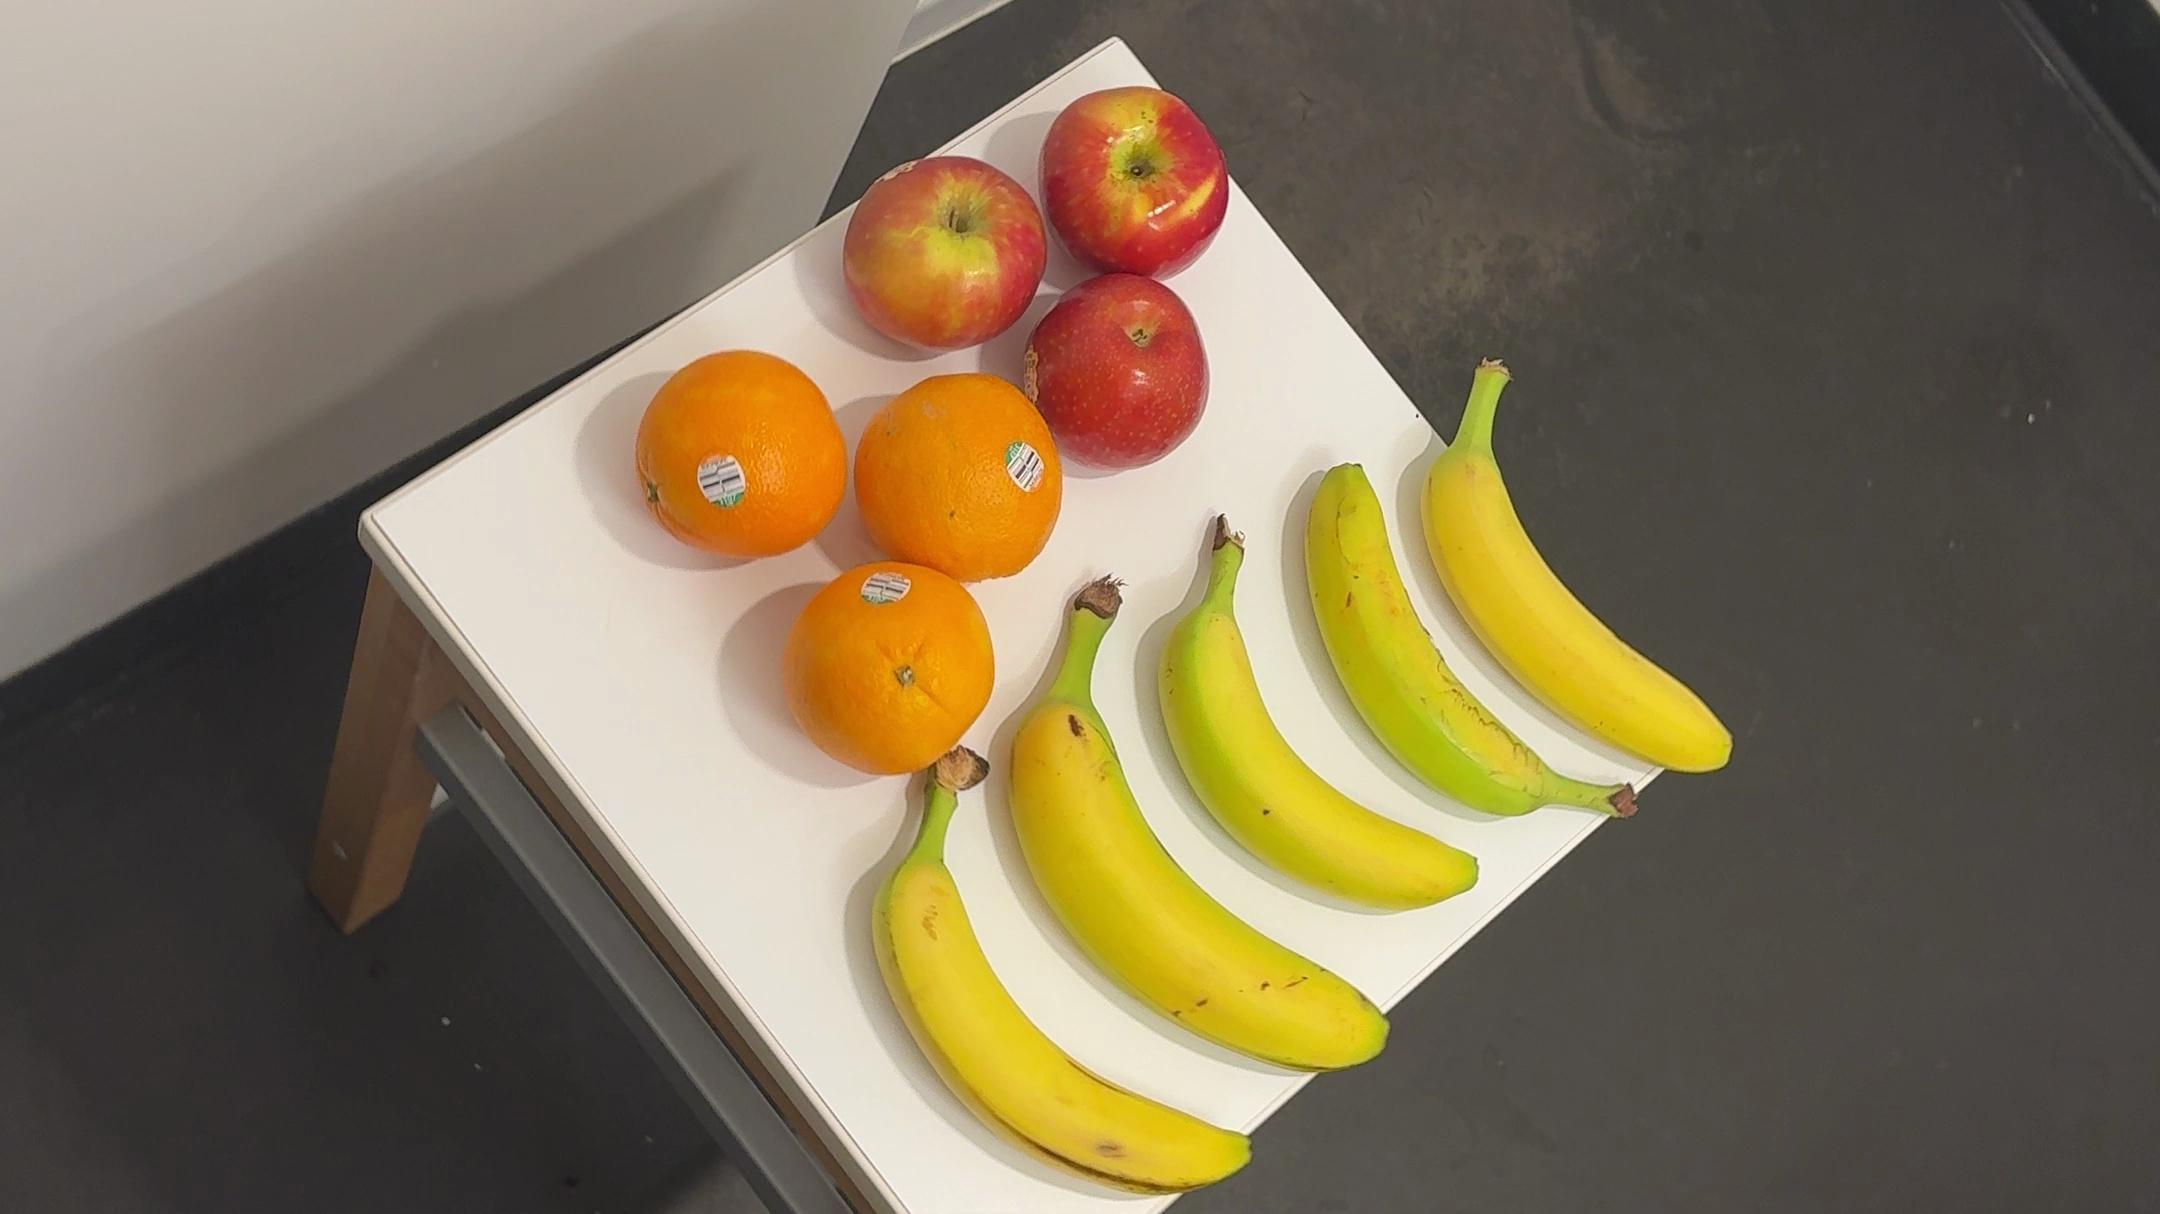apple: (1019, 272, 1211, 475), (1038, 91, 1242, 276), (843, 154, 1031, 350)
banana: (990, 580, 1397, 1086), (849, 752, 1252, 1198), (1409, 355, 1740, 784), (1136, 521, 1484, 919), (1295, 459, 1639, 830)
orange: (779, 567, 995, 787), (633, 349, 846, 568), (860, 375, 1056, 588)
